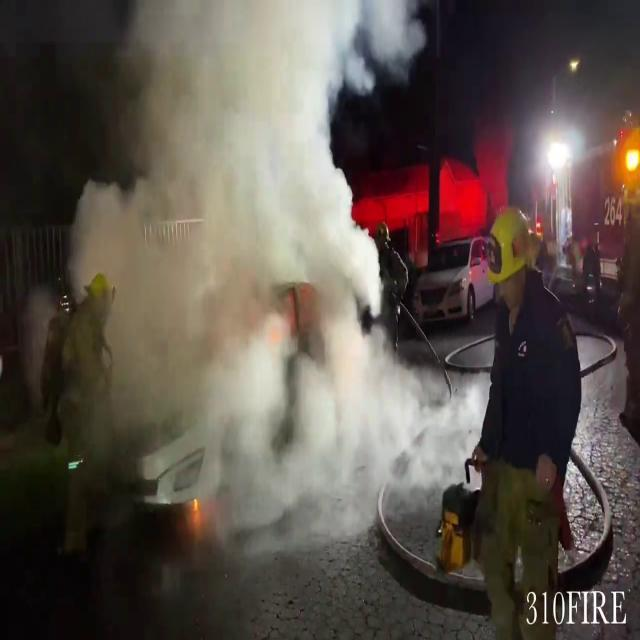Smoke: (71, 0, 439, 545)
